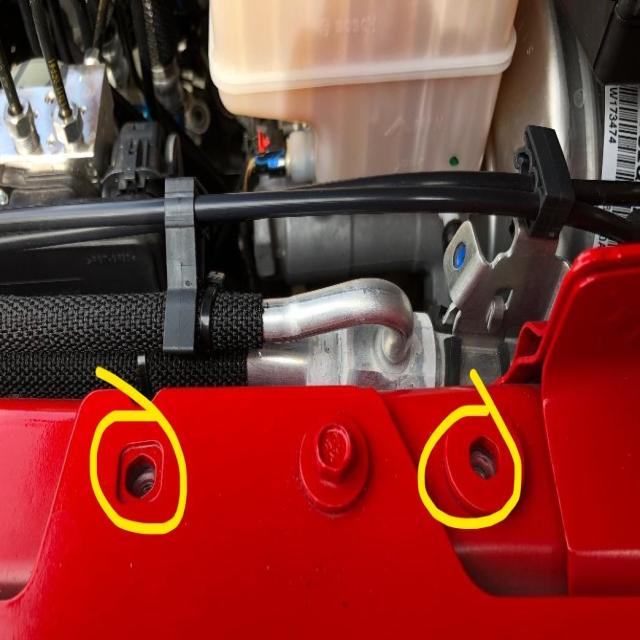Missing bolt: (117, 444, 163, 511), (466, 429, 506, 492)
Regular bolt: (314, 423, 358, 485)
